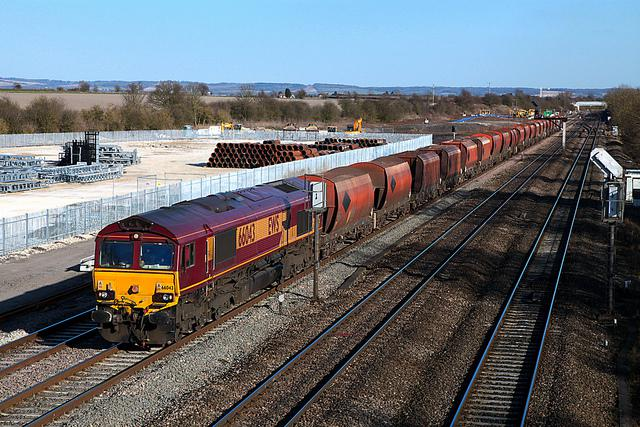Train: (93, 115, 564, 348)
